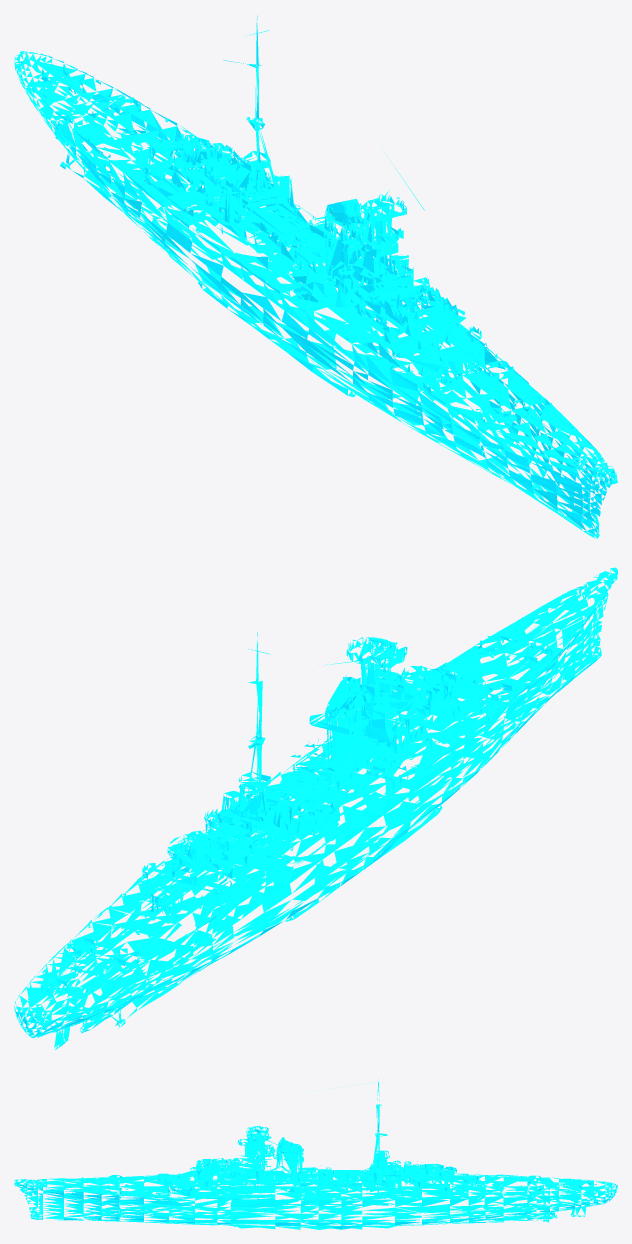
Rendered from Black_Mainz.glb.
3 renders of one model, top to bottom at view 1: azimuth 30°, elevation 25°; view 2: azimuth 150°, elevation 25°; view 3: azimuth 270°, elevation 25°, orthographic. The views are drawn at different scales.
Size of the model in its own units: 1.54 by 3.64 by 14.14.
